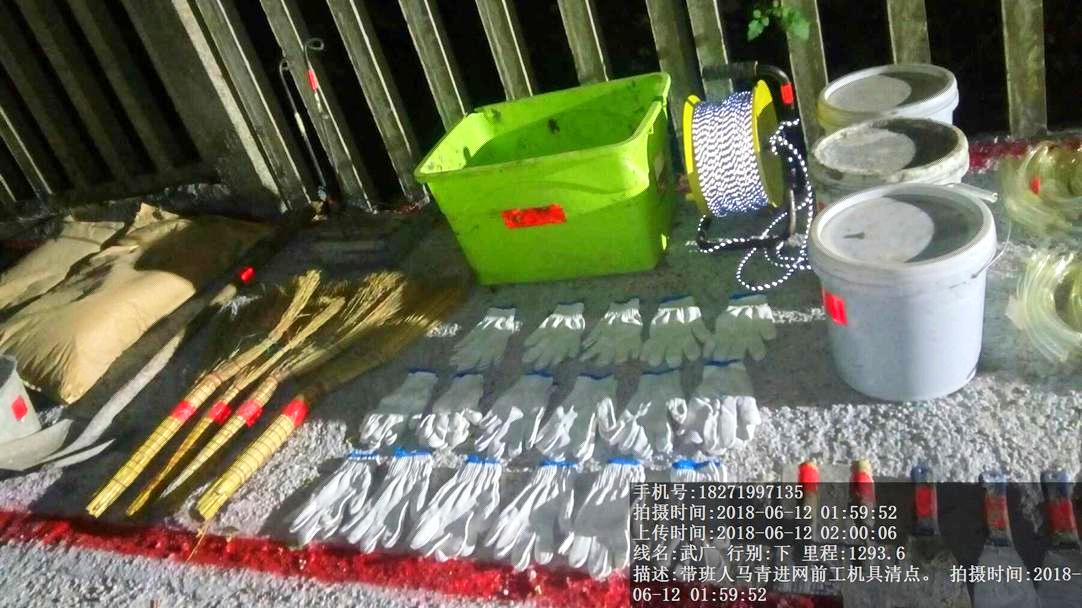DX: (676, 76, 819, 282)
SB: (97, 280, 319, 513)
T: (414, 79, 686, 283)
